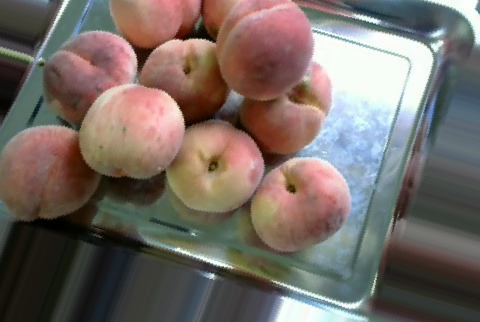Peach: (78, 84, 185, 179), (215, 1, 316, 101), (248, 156, 350, 251), (163, 120, 267, 212), (0, 123, 97, 220), (234, 57, 330, 154), (43, 31, 139, 124), (135, 37, 231, 125), (108, 0, 201, 46)
